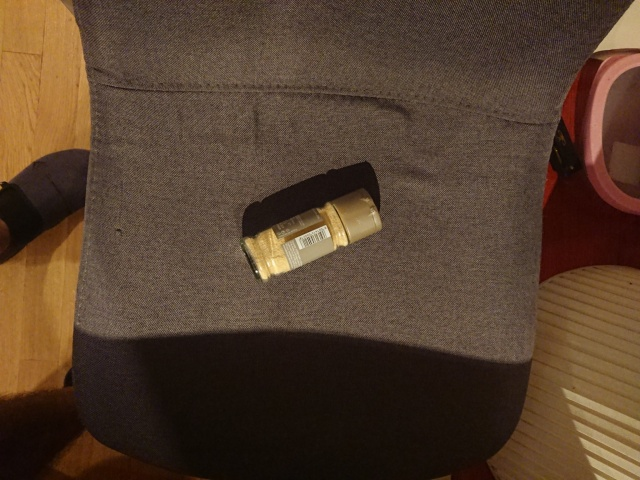Kotanyi Garlic Granules 70g: (237, 184, 385, 288)
